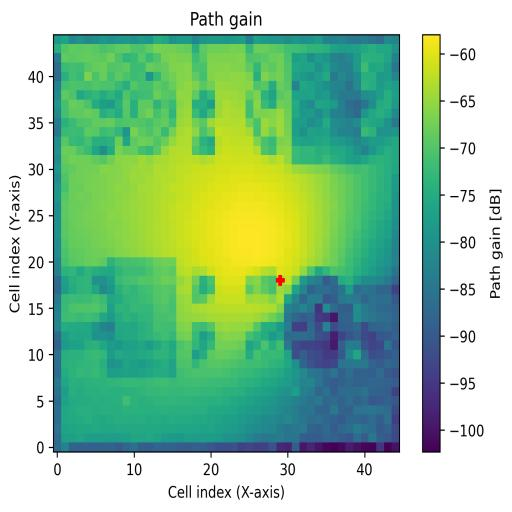Concrete: (292, 52, 362, 165)
Glass: (92, 48, 176, 156)
Metal: (285, 266, 345, 370)
Wood: (107, 256, 177, 378)
